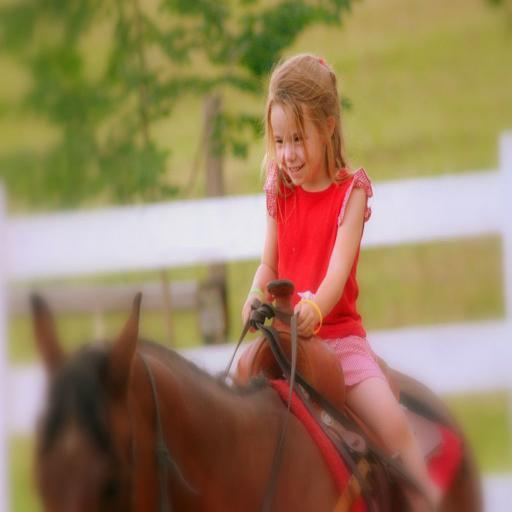horse: (26, 292, 488, 512)
